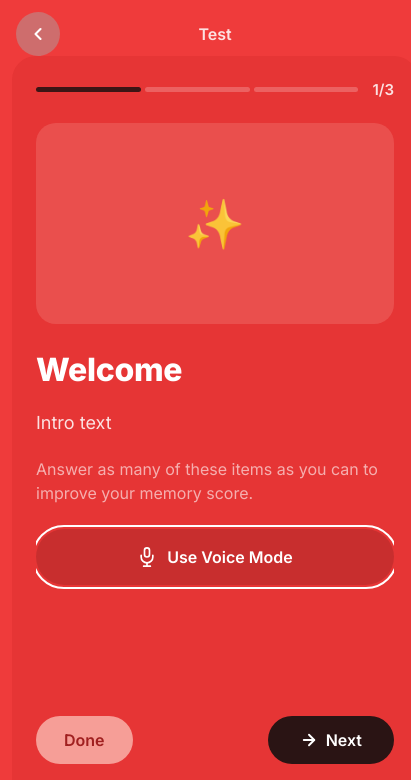
Scenario: FlowEngine › shows completion screen after last question
Check: the heading "Welcome" is shown, box [36,350,182,389]
Click the button "Next" at (331, 740), box [268,716,394,764]
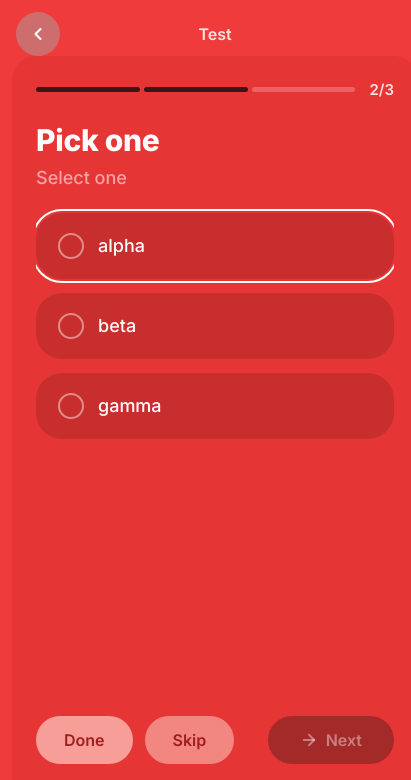
// Select an option
Click the button "alpha" at (121, 246), box [36,213,394,279]
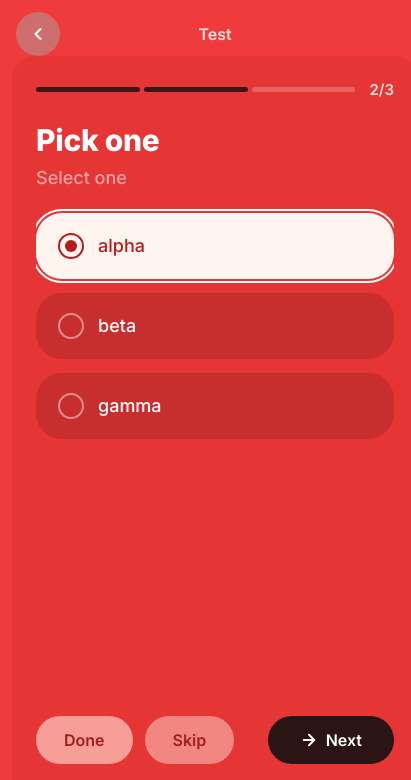
Click the button "Next" at (331, 740), box [268,716,394,764]
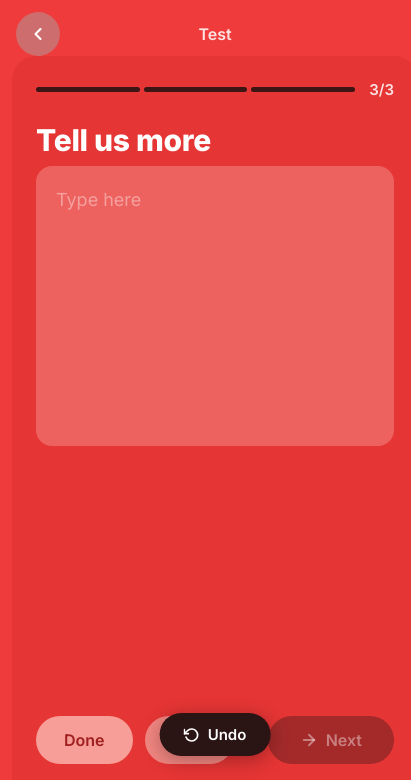
// Type something
Type "hello" into the text box with placeholder "Type here" at (215, 306), box [36,166,394,446]
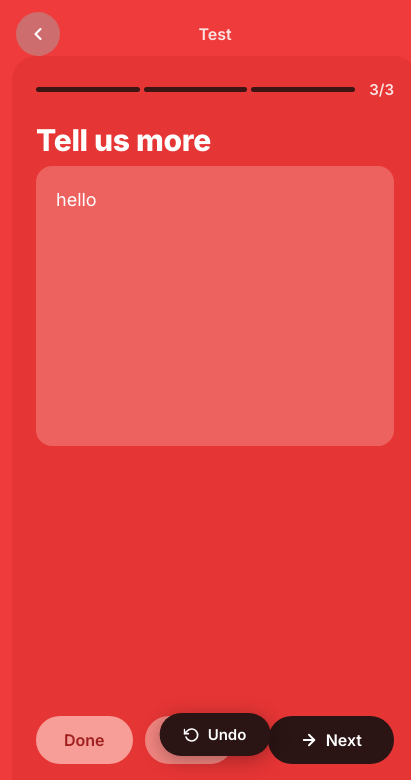
Click the button "Next" at (331, 740), box [268,716,394,764]
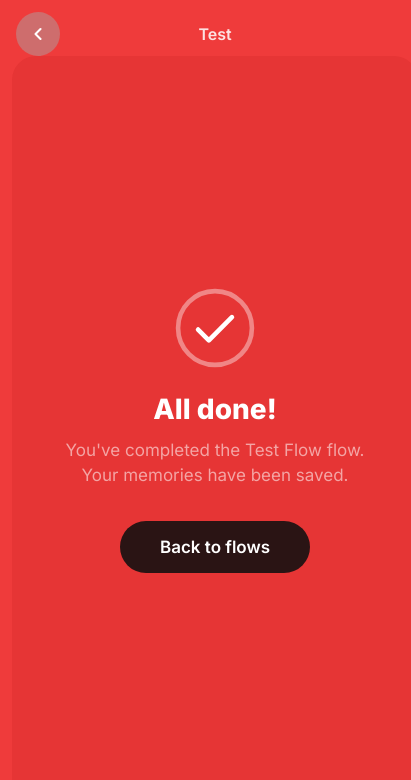
Check: the heading "All done!" is shown, box [153,392,277,426]
